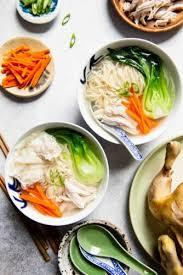Braised Crucian Carp: (77, 38, 181, 146), (3, 121, 108, 226)
